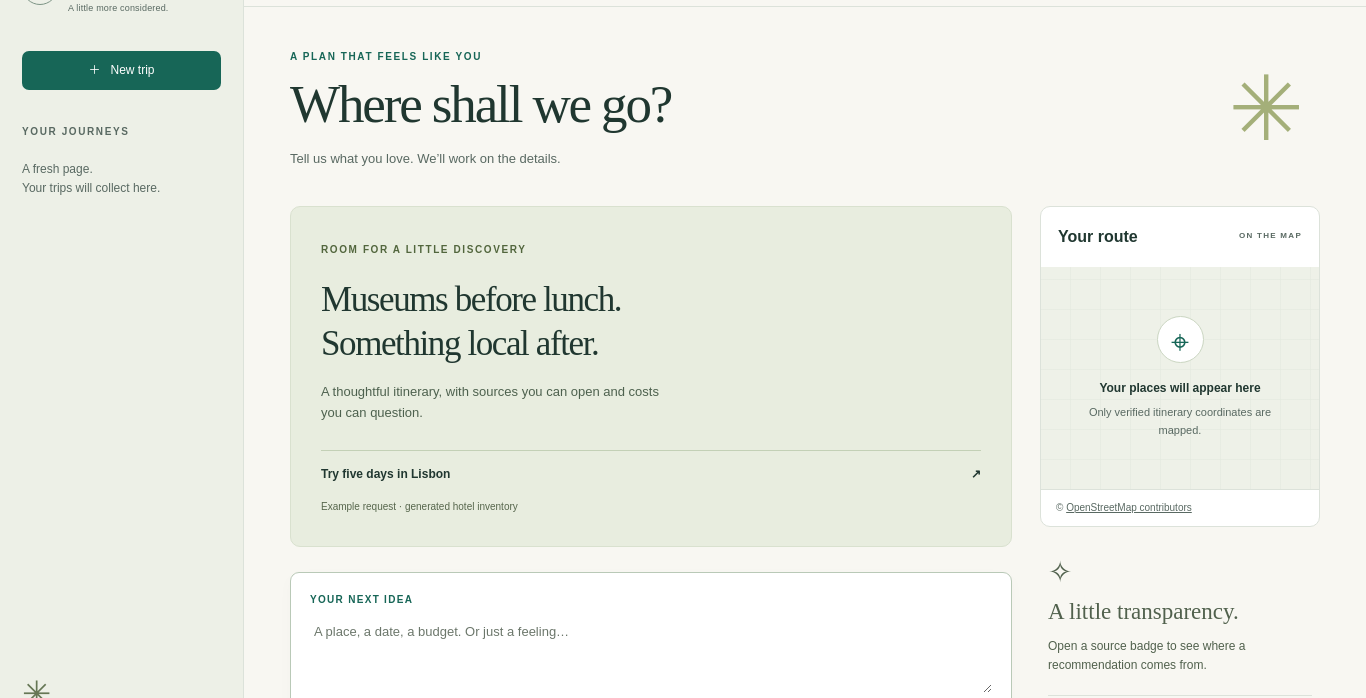
it: reports missing API configuration without a network request
In the text box labelled "Your next idea": (651, 656) [310,618,992,693], type "Plan a synthetic trip"
(page scrolled)
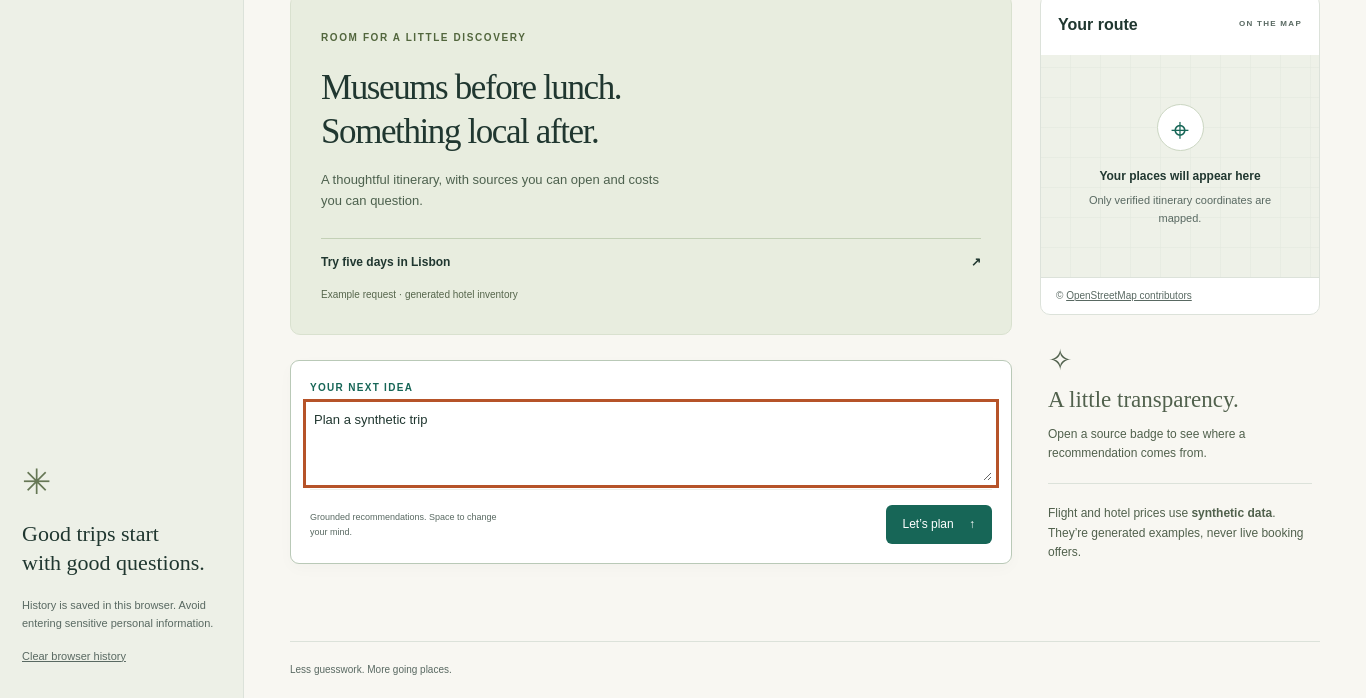
Click the button "Let’s plan ↑": click(939, 525) [886,505,992,544]
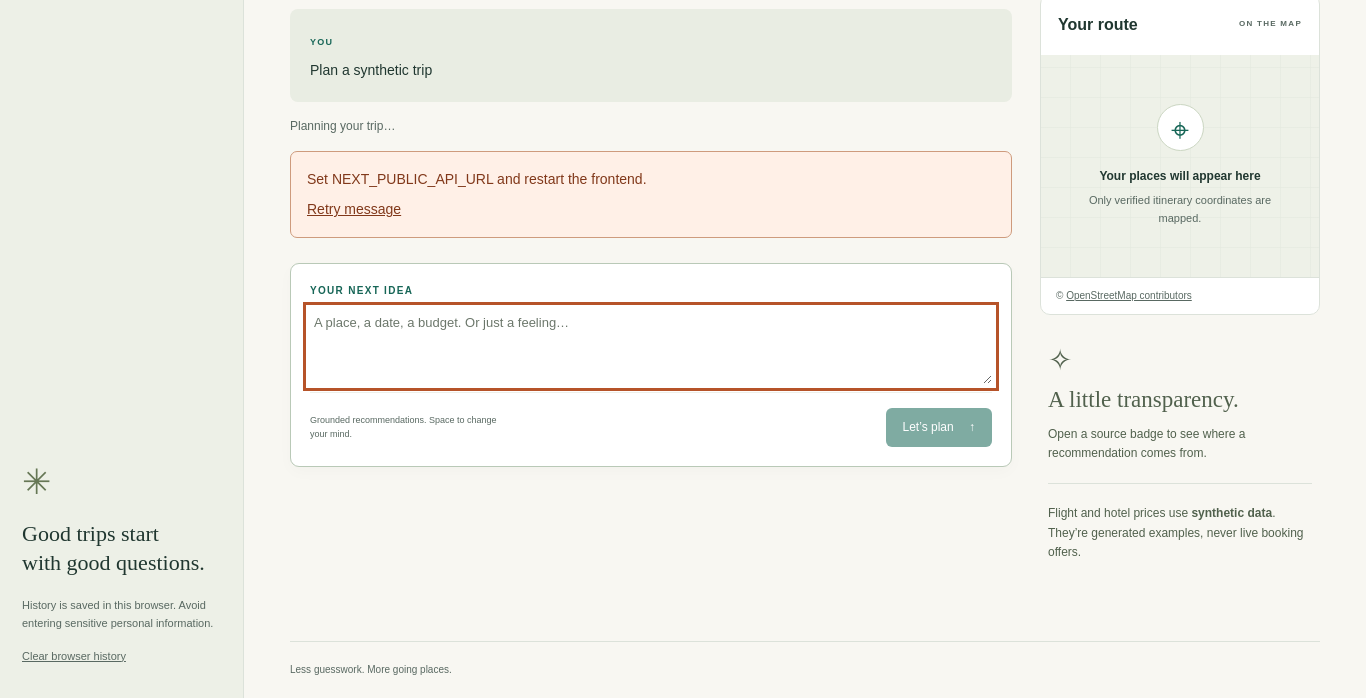
Check: the message "Set NEXT_PUBLIC_API_URL and restart the frontend. Retry message" is shown, box [290,151,1012,238]
